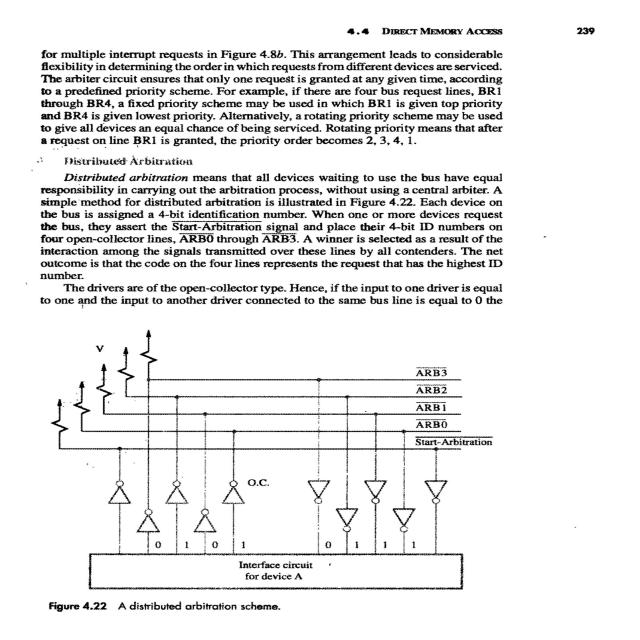diagram: (30, 327, 470, 600)
